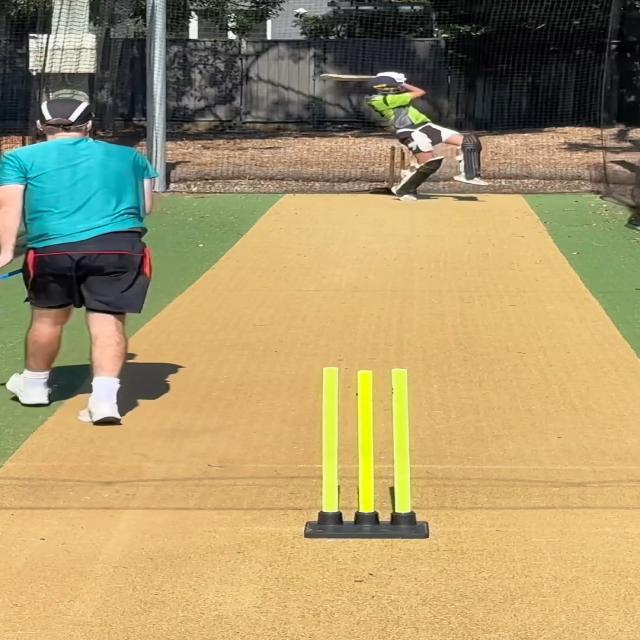stump: (303, 365, 422, 542)
